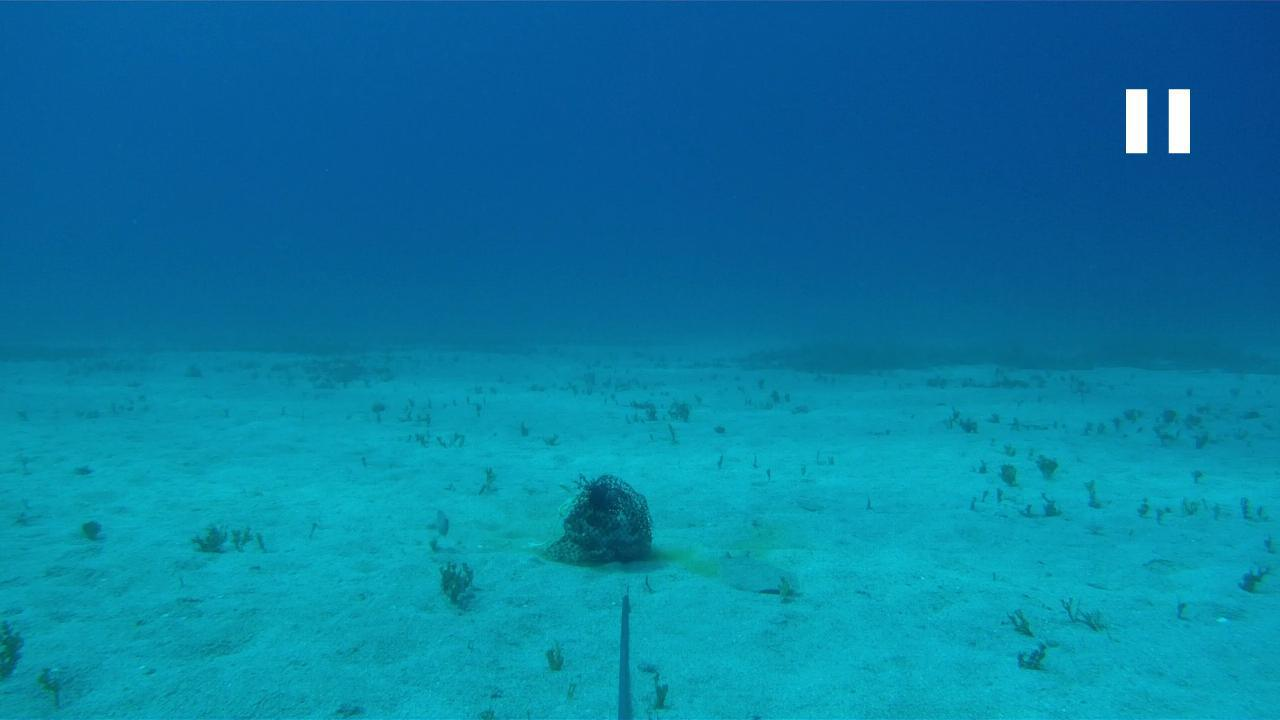bothus: (712, 548, 802, 595)
